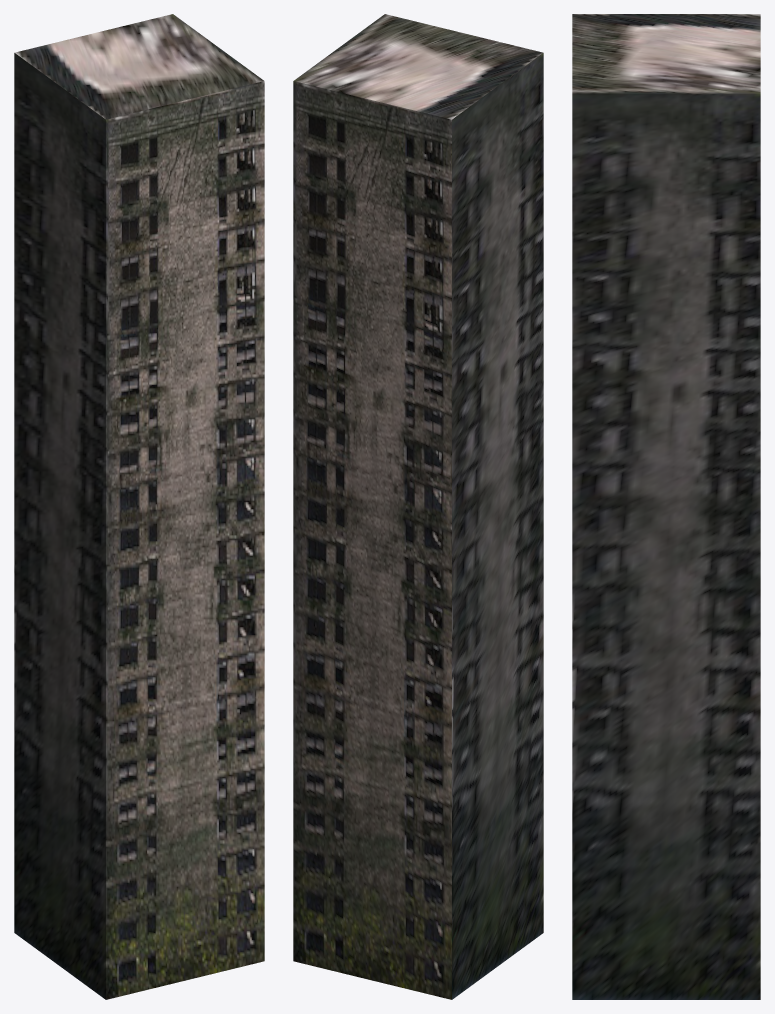
The model's file is PH_MOD_RuinedBuilding-B.FBX.
3 renders of one model, left to right at view 1: azimuth 30°, elevation 25°; view 2: azimuth 150°, elevation 25°; view 3: azimuth 270°, elevation 25°, orthographic. The views are drawn at different scales.
Parts seen in each view (by area): view 1: Box004; view 2: Box004; view 3: Box004.
Boxes of the visible parts, x1=… form: Box004: x1=14, y1=14, x2=264, y2=999; Box004: x1=293, y1=14, x2=543, y2=999; Box004: x1=572, y1=14, x2=760, y2=999.
Size of the model in its own units: 1000 by 5305 by 1000.
Materials: 1 (1 with a texture image).
